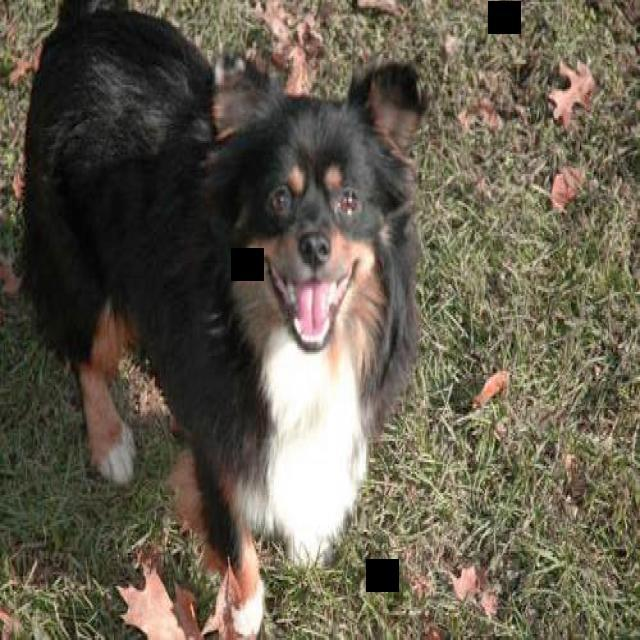adult_dog: (21, 3, 444, 640)
